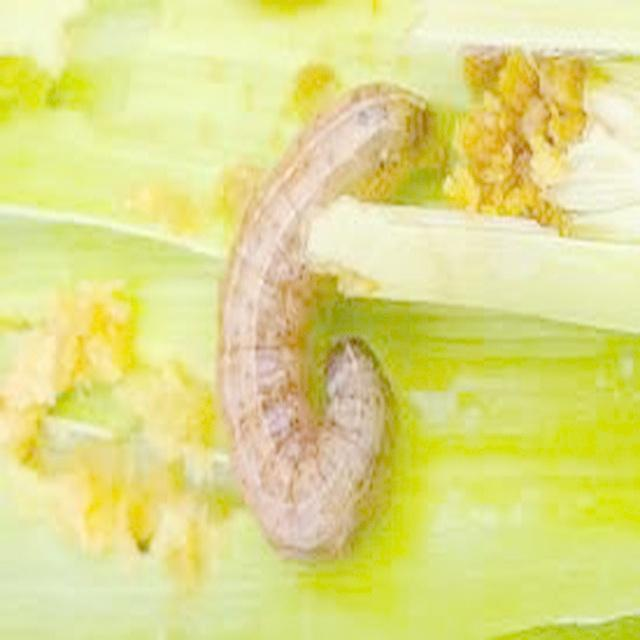Plaga: (212, 78, 439, 566)
